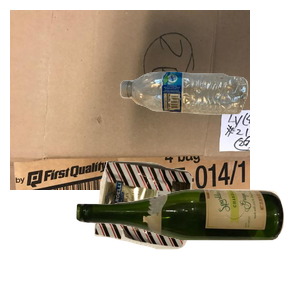cardboard: (10, 10, 250, 190)
glass: (74, 186, 300, 300)
plastic: (118, 69, 300, 176)
trash: (92, 158, 277, 300)
